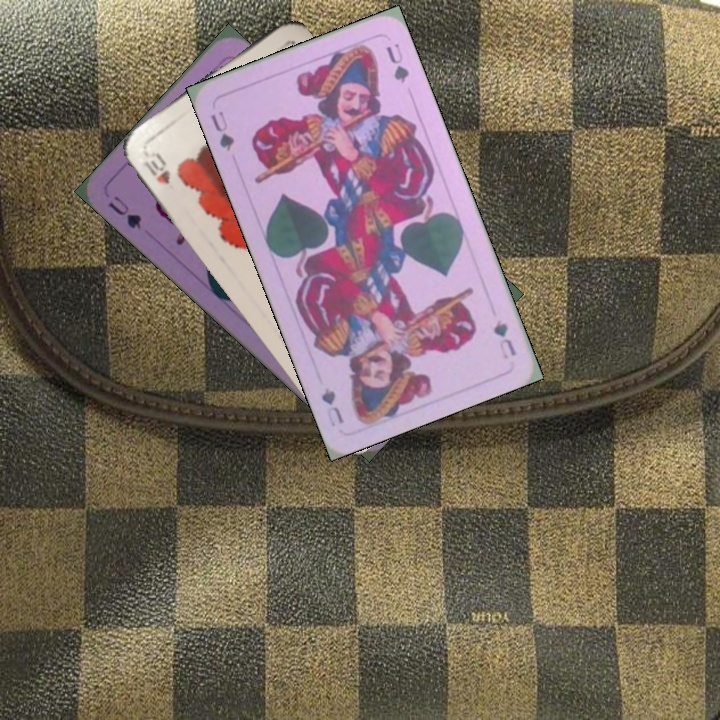GU: (104, 191, 144, 232), (207, 107, 237, 154), (489, 315, 519, 362)
H10: (137, 148, 173, 187)
